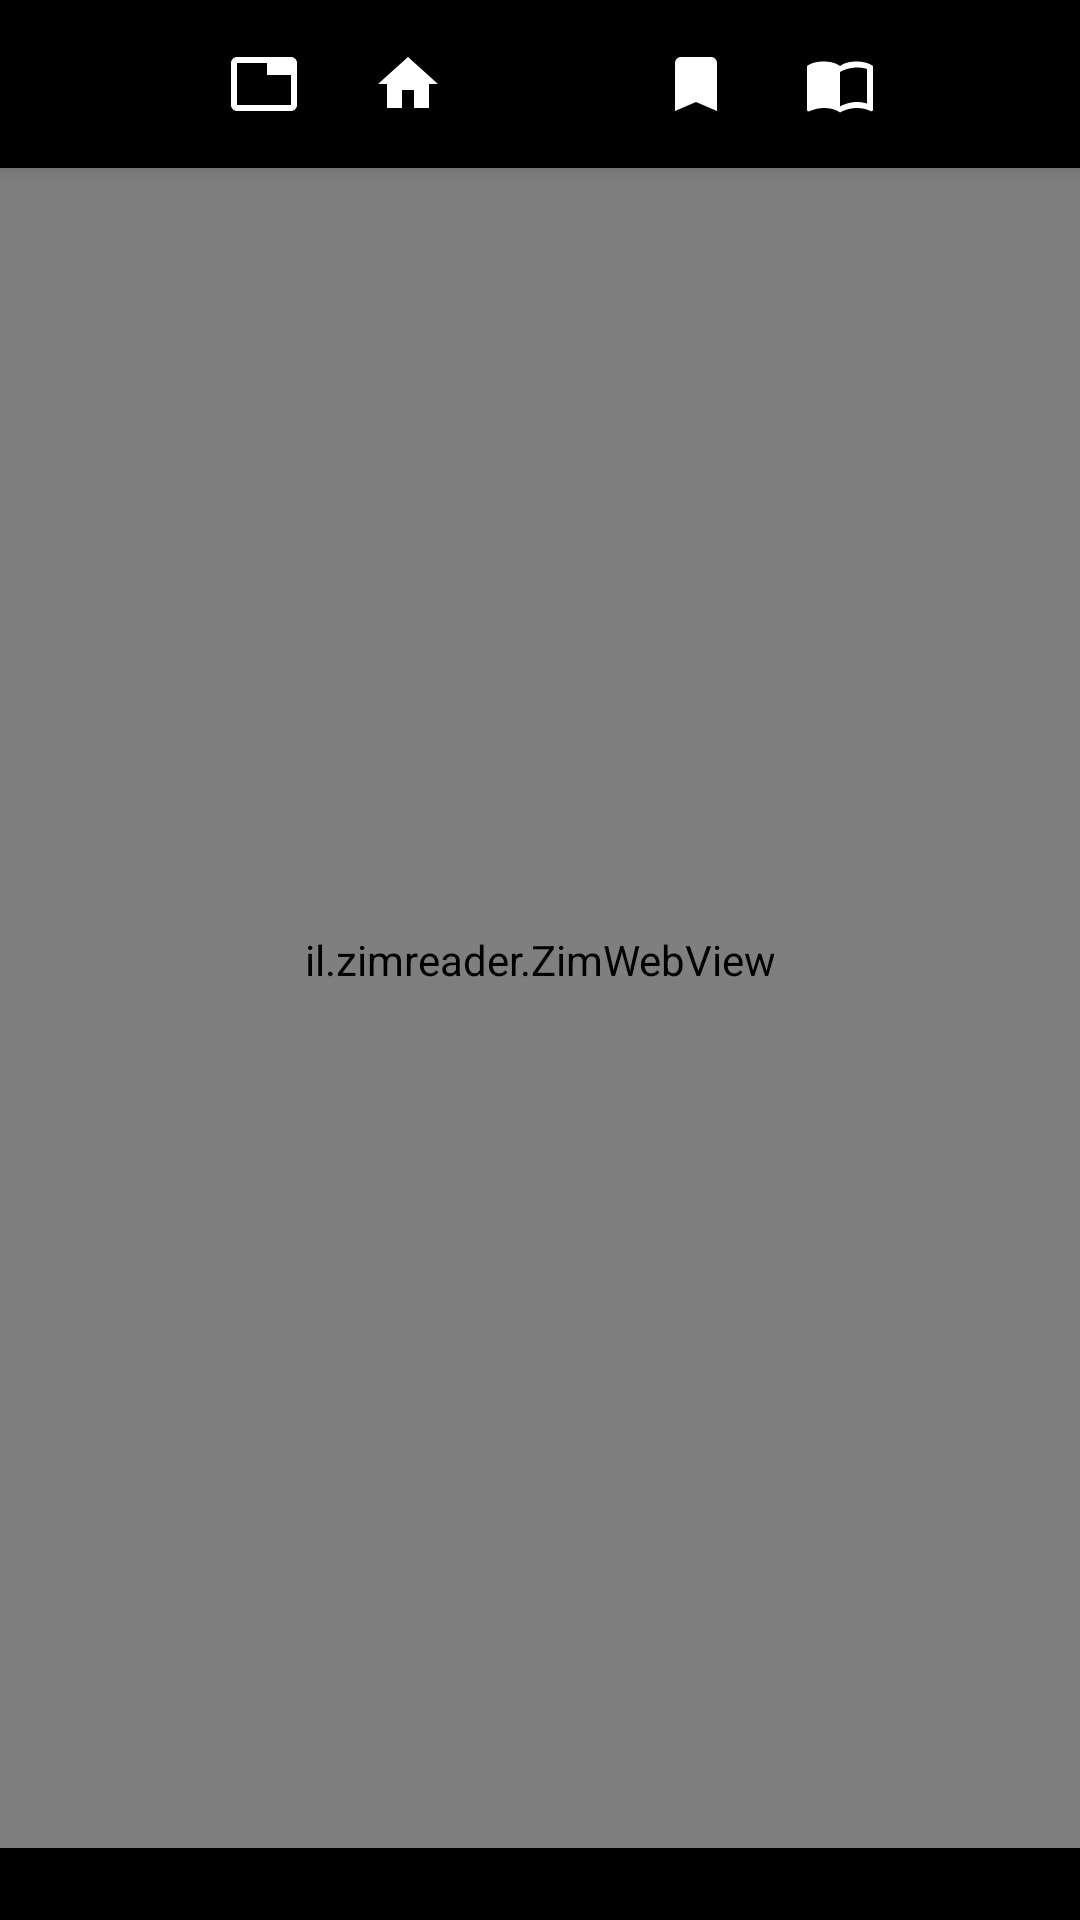

Icons on this 1080x1920 Android screen, each with its box as bbox=[x1, y1, x2, y2]:
דף ראשי: bbox=[378, 57, 438, 108]
כרטיסיות: bbox=[231, 57, 297, 111]
סימנייה: bbox=[675, 57, 717, 111]
ספרים: bbox=[807, 61, 873, 113]
